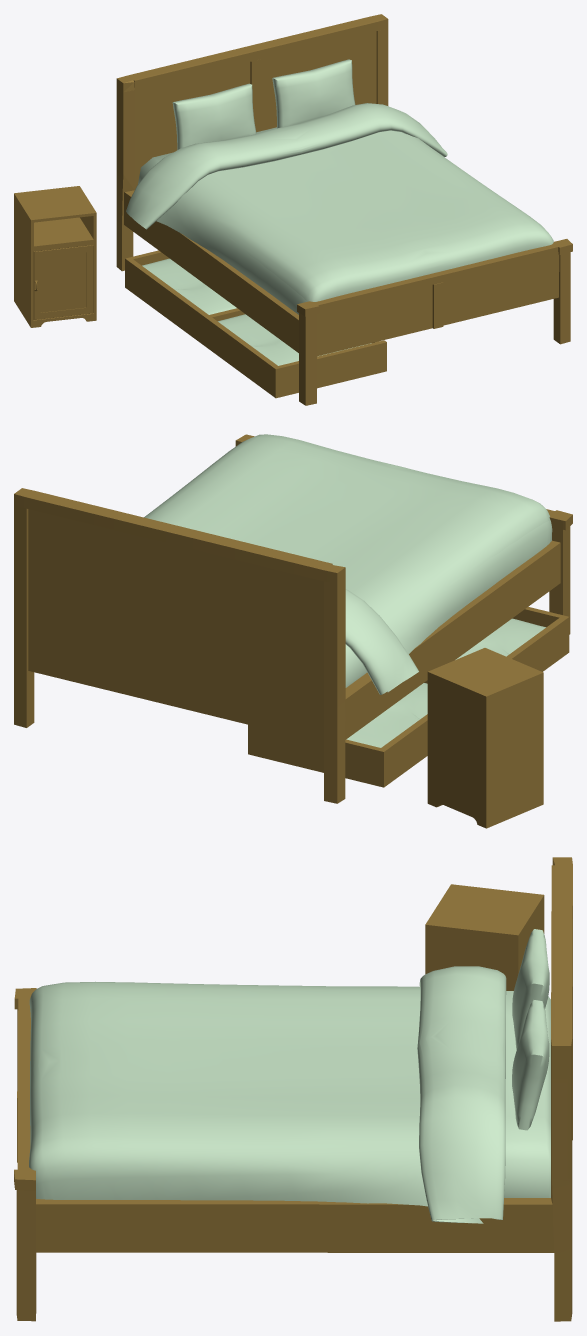
Rendered from Aspelund_Double_Bed-3D.DAE.
3 views of the same model, one above another, from view 1: azimuth 30°, elevation 25°; view 2: azimuth 150°, elevation 25°; view 3: azimuth 270°, elevation 25° (orthographic). The views are drawn at different scales.
Parts seen in each view (by area): view 1: Object03, Object02, Box05, Object01, Object04, Object08, Object07, Object06; view 2: Object02, Object03, Box05, Object01, Object07, Object06, Line01; view 3: Object03, Object02, Box05, Line01, Object04, Object08.
Boxes of the visible parts, x1=… form: Object03: x1=126, y1=103, x2=553, y2=314; Object02: x1=116, y1=14, x2=572, y2=405; Box05: x1=14, y1=186, x2=96, y2=327; Object01: x1=125, y1=250, x2=386, y2=398; Object04: x1=272, y1=59, x2=355, y2=128; Object08: x1=172, y1=83, x2=256, y2=149; Object07: x1=142, y1=258, x2=236, y2=314; Object06: x1=218, y1=314, x2=371, y2=365; Object02: x1=14, y1=434, x2=572, y2=803; Object03: x1=144, y1=434, x2=552, y2=694; Box05: x1=427, y1=648, x2=543, y2=828; Object01: x1=248, y1=607, x2=569, y2=787; Object07: x1=346, y1=683, x2=427, y2=747; Object06: x1=455, y1=618, x2=545, y2=659; Line01: x1=345, y1=644, x2=367, y2=687; Object03: x1=29, y1=966, x2=506, y2=1223; Object02: x1=14, y1=857, x2=572, y2=1321; Box05: x1=425, y1=884, x2=544, y2=990; Line01: x1=504, y1=991, x2=550, y2=1197; Object04: x1=512, y1=1000, x2=549, y2=1130; Object08: x1=512, y1=929, x2=549, y2=1049.
Bounding box in the file's own units: 2516 × 1102 × 2027.
